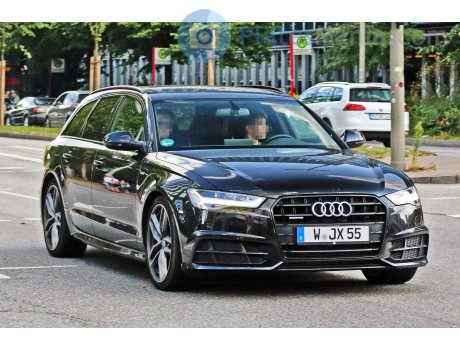License Plates: (310, 227, 359, 236)
